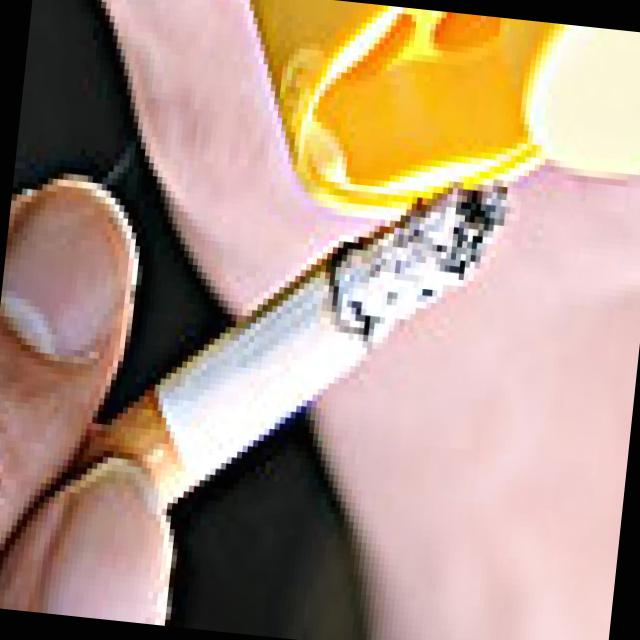smoke: (151, 147, 516, 539)
